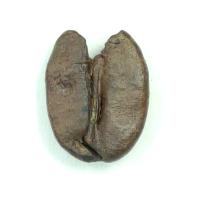NG: (64, 29, 137, 65)
